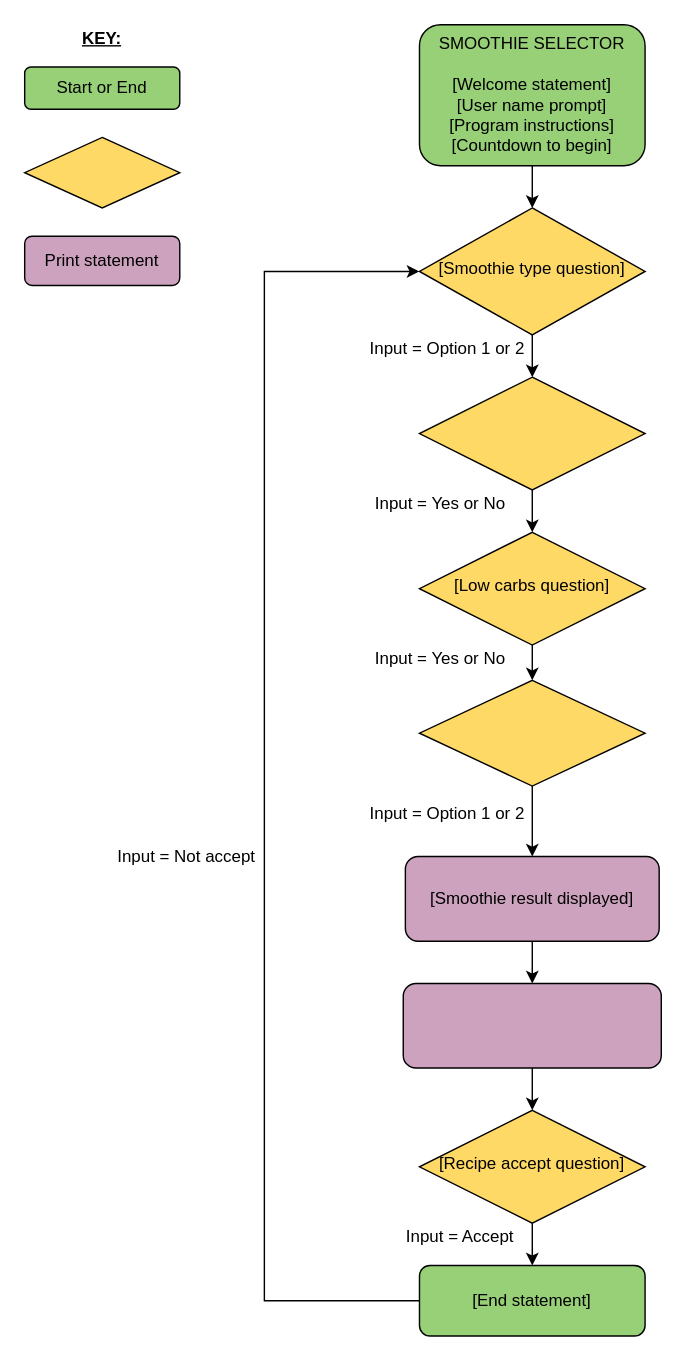
The diagram is 687 pixels wide and 1361 high, and some of its shapes have lost their labels. The shapes that lost their labels are listed below. From the top down, each one's box as (x1, y1, x2, y2) in pixels, then its label:
(23, 136, 180, 208): Question
(418, 376, 645, 490): [Low calorie question]
(418, 679, 645, 786): [Fruit or veg question]
(402, 982, 661, 1068): [Smoothie ingrediants and method displayed]
